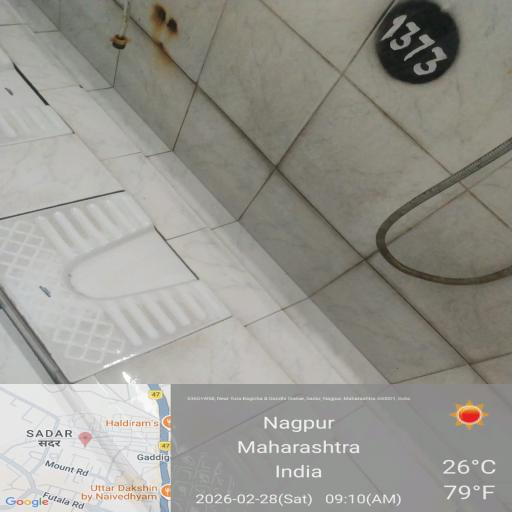clean_floor: (193, 75, 512, 365), (0, 26, 177, 369)
partial_dirty_floor: (84, 4, 210, 84)
